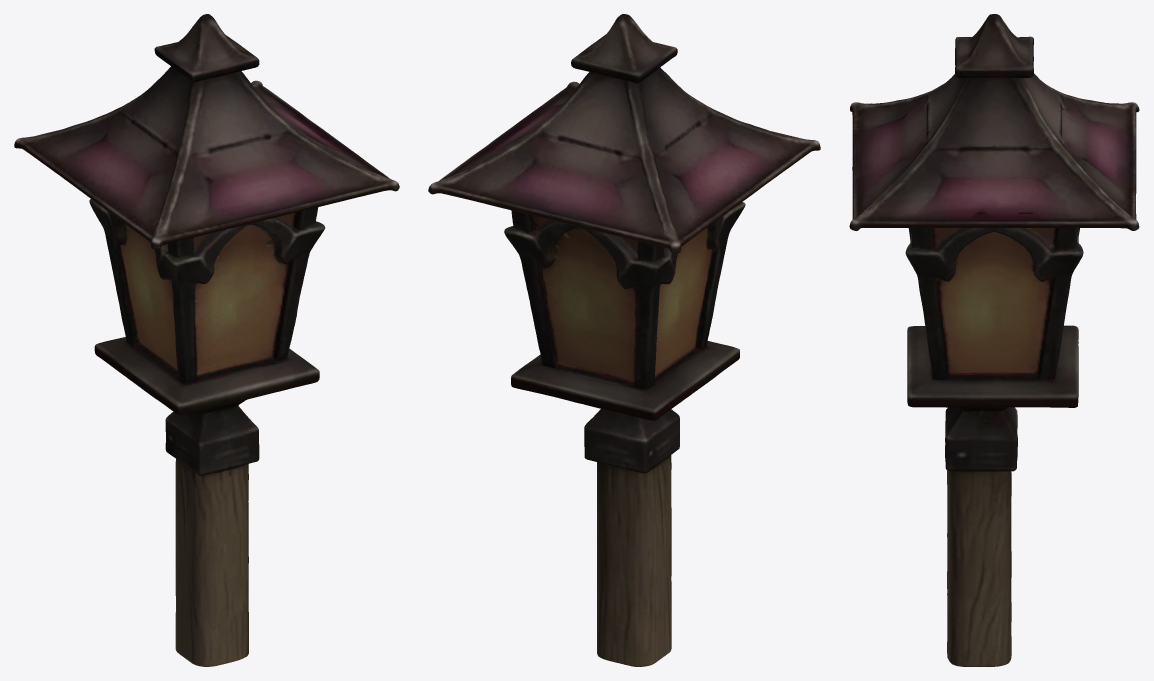
Rendered from war_lantern_01.glb.
The picture shows the model from 3 angles, left to right: view 1: azimuth 30°, elevation 25°; view 2: azimuth 150°, elevation 25°; view 3: azimuth 270°, elevation 25°; orthographic projection.
Visible parts, largest first — view 1: geometry_0; view 2: geometry_0; view 3: geometry_0.
Boxes of the visible parts, left/top/right/bottom form: geometry_0: left=14, top=14, right=399, bottom=666; geometry_0: left=428, top=14, right=820, bottom=666; geometry_0: left=849, top=14, right=1139, bottom=666.
Size of the model in its own units: 0.4117 by 1 by 0.4107.
1 material, 1 textured.
